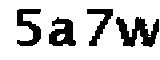5: (10, 6, 46, 51)
7: (83, 6, 113, 49)
a: (47, 15, 79, 50)
w: (114, 14, 160, 50)
